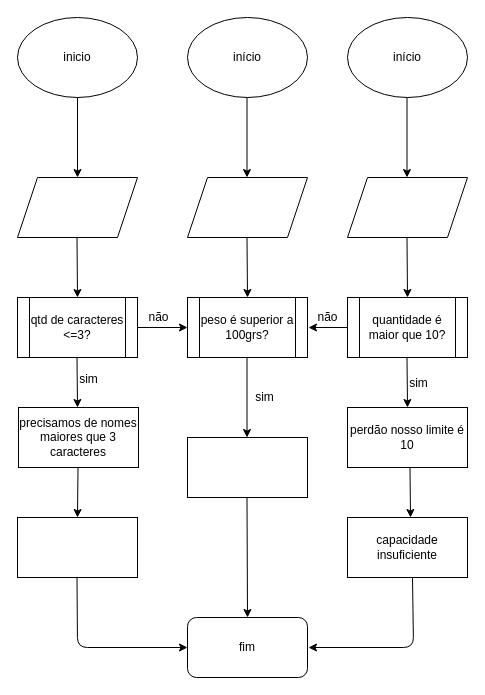
This 485x695 diagram has some shape labels left out. Each missing label, with the centre of its shape:
cadastrar: the point at 247,467
msg de erro: the point at 77,547
nome da peça: the point at 77,207
peso da peça: the point at 247,207
qtd de peças: the point at 407,207
